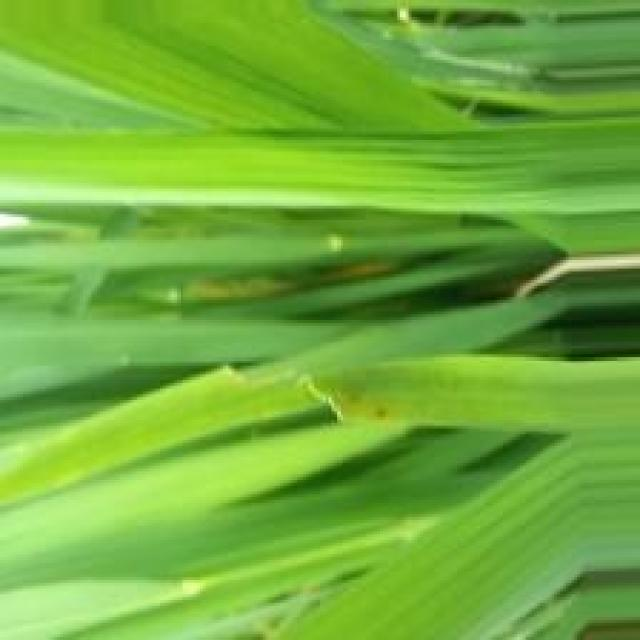HealthyLeaf: (284, 432, 637, 636), (3, 119, 640, 212), (425, 354, 640, 431)
